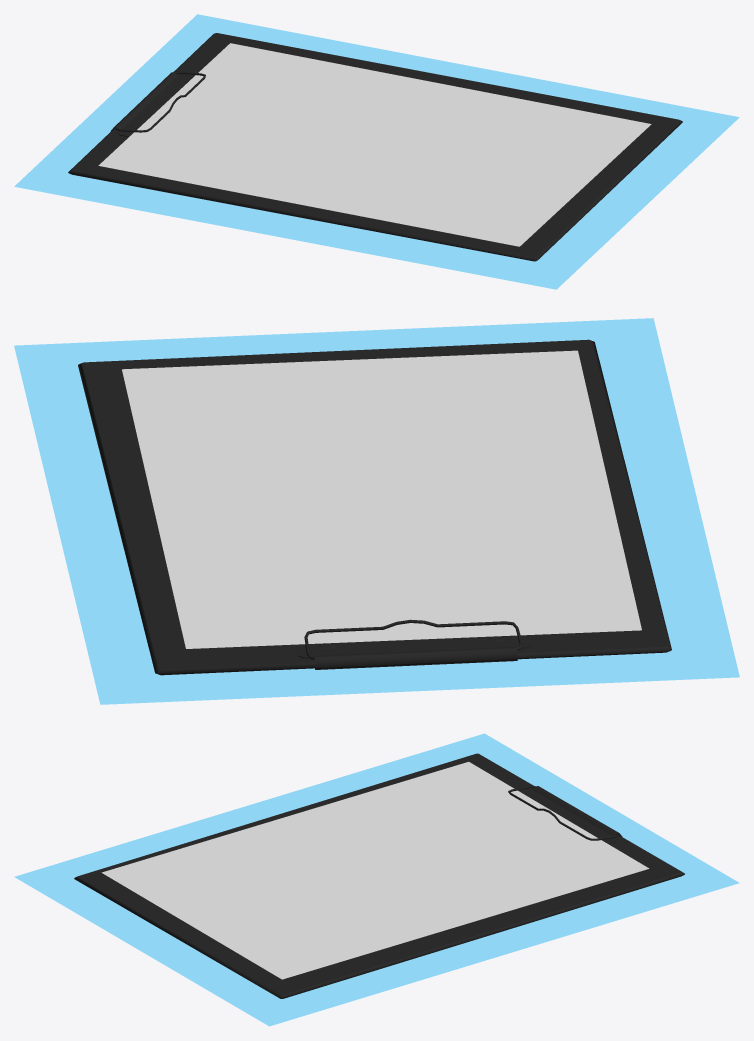
Rendered from ResumeBorder.glb.
The picture shows the model from 3 angles, top to bottom: view 1: azimuth 30°, elevation 25°; view 2: azimuth 150°, elevation 25°; view 3: azimuth 270°, elevation 25°; orthographic projection. The views are drawn at different scales.
Parts seen in each view (by area): view 1: Plane.005, Plane.001; view 2: Plane.005, Plane.001; view 3: Plane.005, Plane.001.
Boxes of the visible parts, x1,y1,x2,y2 form: Plane.005: (68, 33, 682, 261); Plane.001: (14, 14, 739, 289); Plane.005: (78, 339, 671, 675); Plane.001: (14, 318, 739, 704); Plane.005: (74, 753, 684, 998); Plane.001: (14, 733, 739, 1026).
Size of the model in its own units: 3.95 by 0.1003 by 4.13.
